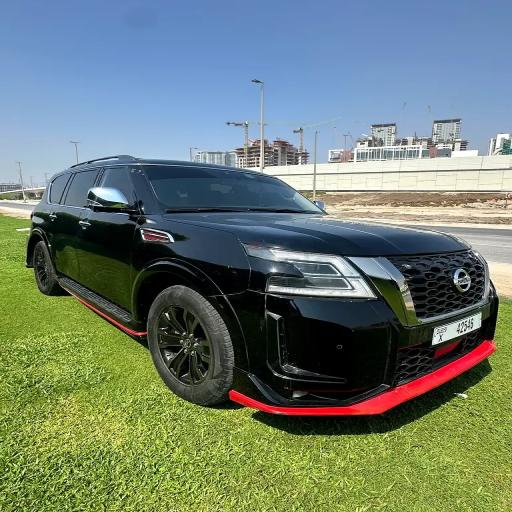license-plates: (431, 312, 481, 346)
